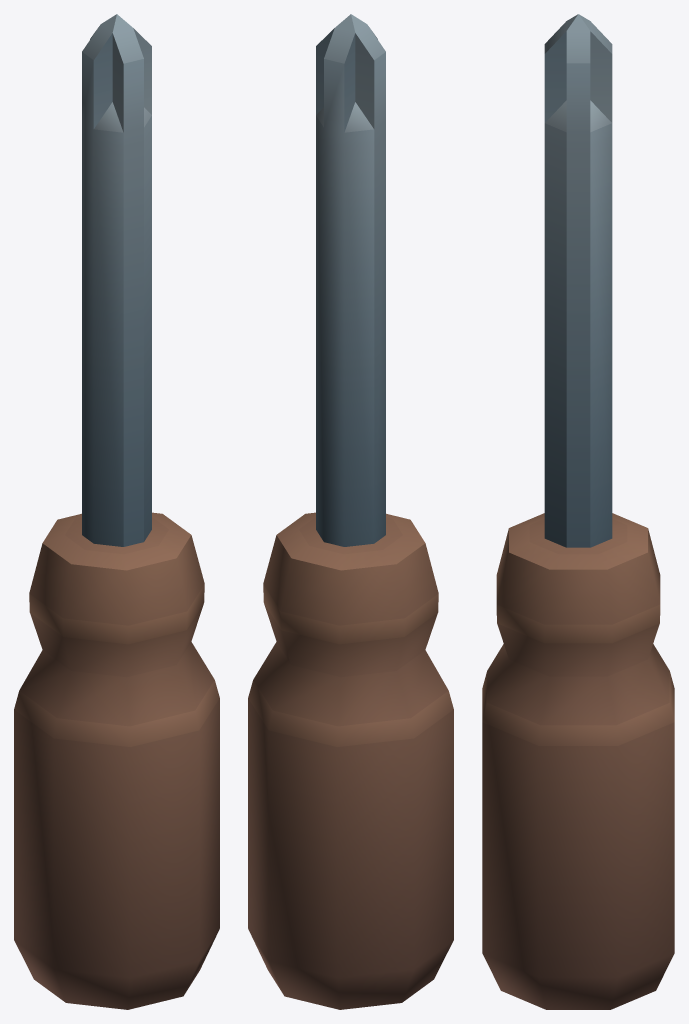
File: screwdriver_B_long.glb
3 renders of one model, left to right at view 1: azimuth 30°, elevation 25°; view 2: azimuth 150°, elevation 25°; view 3: azimuth 270°, elevation 25°, orthographic.
Visible parts, largest first — view 1: screwdriver_B_long; view 2: screwdriver_B_long; view 3: screwdriver_B_long.
Part boxes in pixels (x1=…): screwdriver_B_long: x1=14, y1=14, x2=219, y2=1009; screwdriver_B_long: x1=248, y1=14, x2=453, y2=1009; screwdriver_B_long: x1=482, y1=14, x2=674, y2=1009.
Bounding box in the file's own units: 0.1513 × 0.8536 × 0.1513.
Materials: 1 (1 with a texture image).
